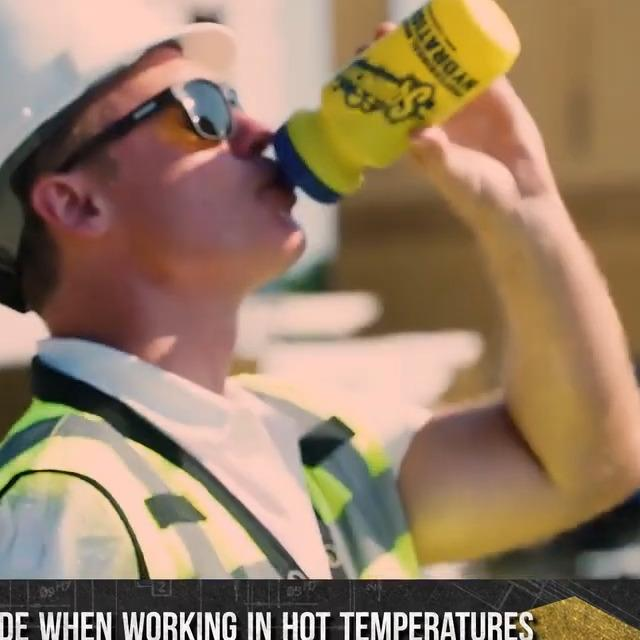Hardhat: (0, 0, 238, 287)
NO-Mask: (28, 149, 307, 286)
Person: (0, 0, 640, 579)
Safety Vest: (0, 355, 425, 581)
